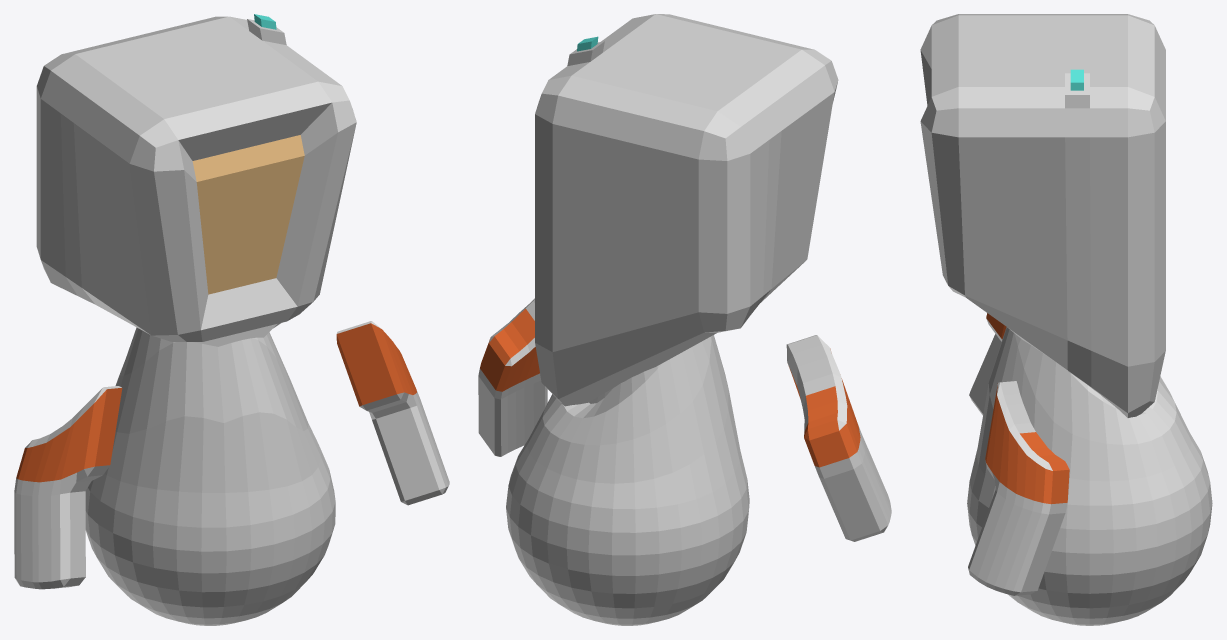
The model's file is littleRobot.glb.
The picture shows the model from 3 angles, left to right: view 1: azimuth 30°, elevation 25°; view 2: azimuth 150°, elevation 25°; view 3: azimuth 270°, elevation 25°; orthographic projection. The views are drawn at different scales.
Visible parts, largest first — view 1: Sphere; view 2: Sphere; view 3: Sphere.
Part boxes in pixels (x1=…): Sphere: x1=14, y1=14, x2=449, y2=625; Sphere: x1=478, y1=14, x2=891, y2=625; Sphere: x1=920, y1=14, x2=1212, y2=625.
Size of the model in its own units: 1.62 by 2.13 by 1.
